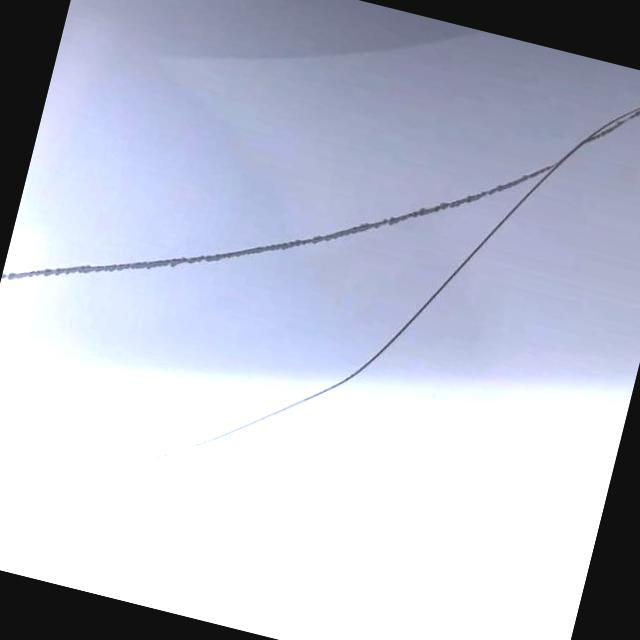crack: (110, 192, 499, 604), (81, 100, 457, 388)
